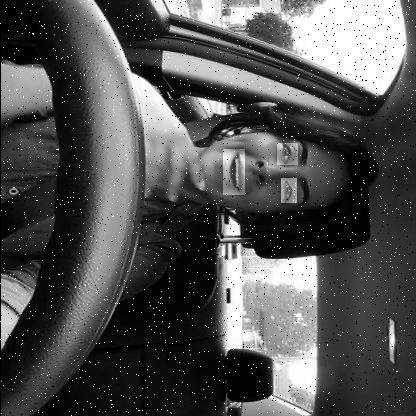seatbelt: (0, 101, 382, 246)
